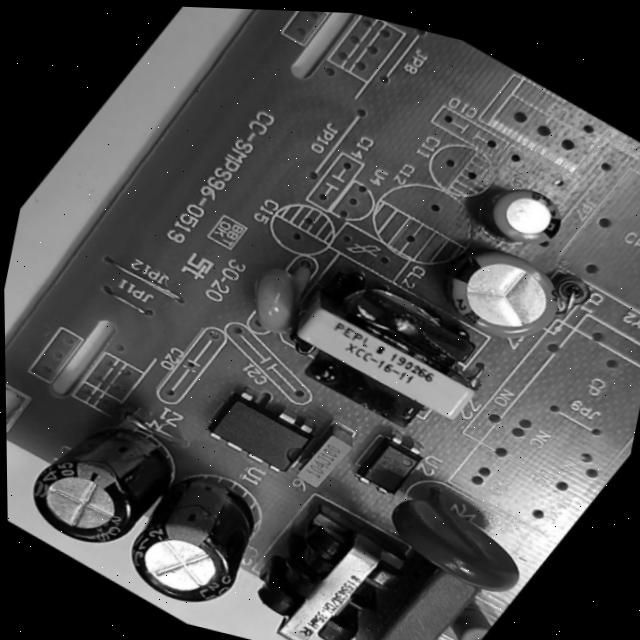Cap1: (420, 221, 595, 371)
Cap2: (469, 164, 587, 271)
Cap3: (97, 449, 302, 640)
Cap4: (6, 375, 211, 585)
MOSFET: (186, 364, 343, 496)
Mov: (365, 468, 559, 618)
Resistor: (431, 597, 499, 640)
Transformer: (238, 225, 529, 472), (218, 465, 452, 640)
